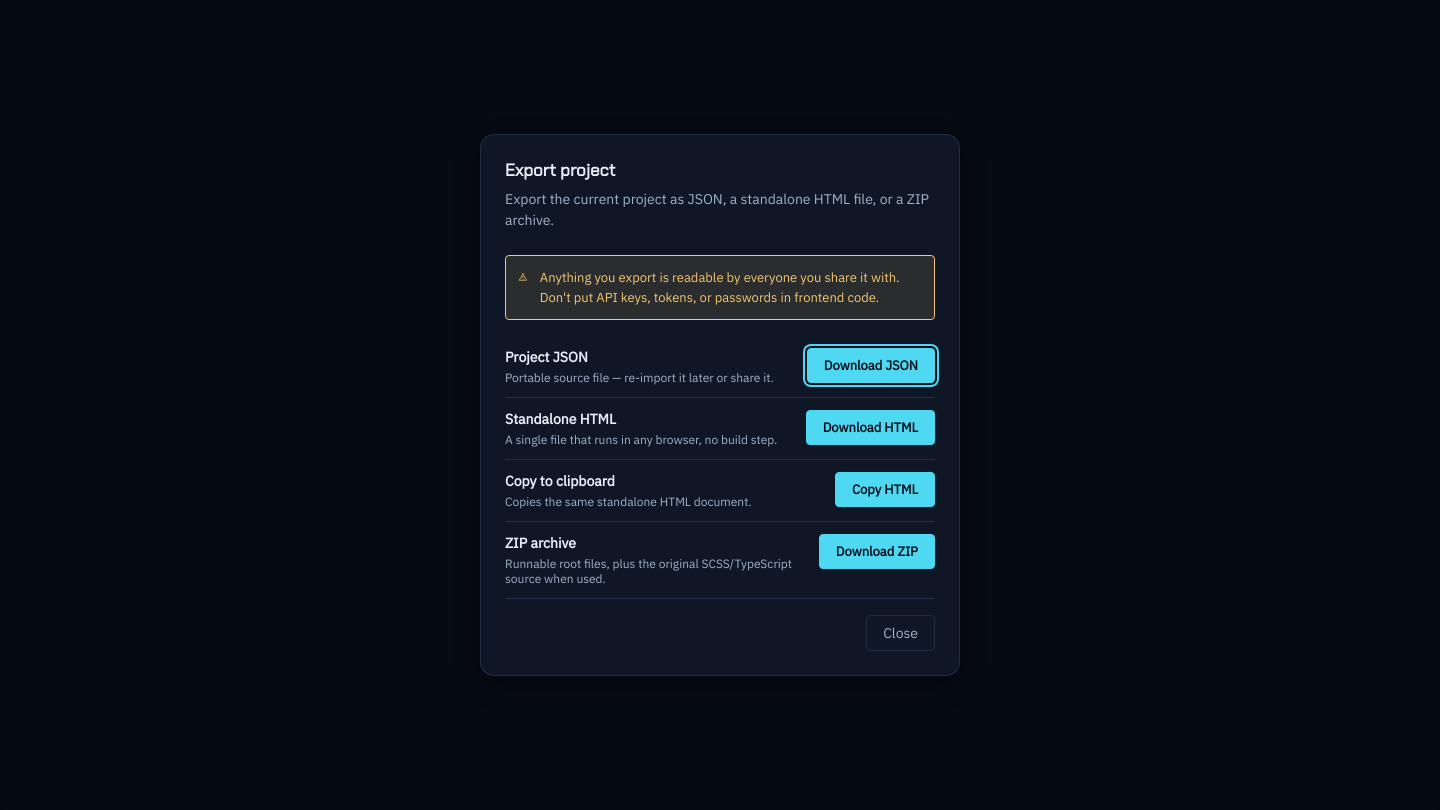
Test case: ExportDialog › reports an unexpected failure from Download ZIP instead of staying busy
The image size is (1440, 810).
Step 1. Click the button "Download ZIP" → (877, 552), box [819,534,935,569]
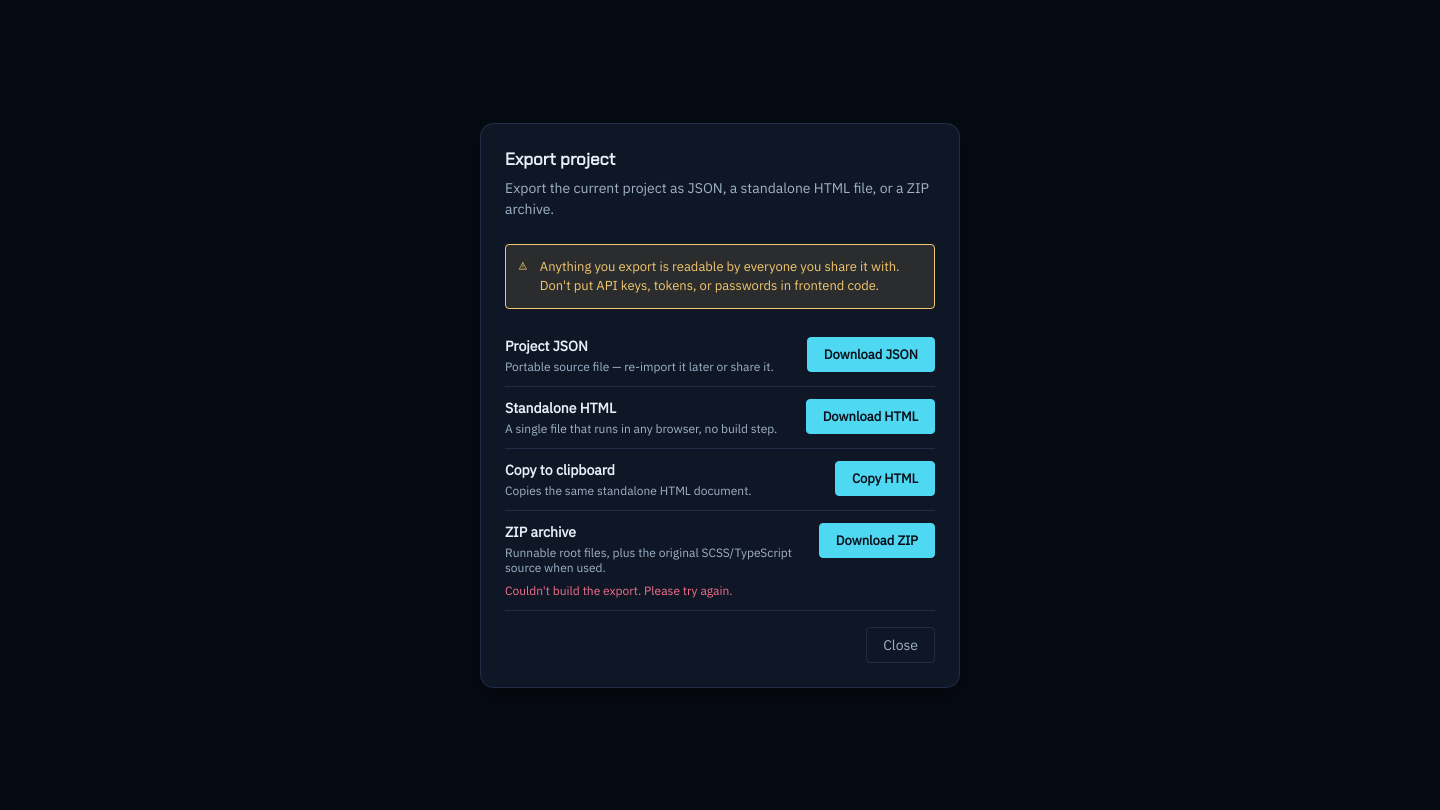
expect the button "Download ZIP" is enabled: met, box [819,522,935,558]
expect the message shows "Couldn't build the export.": met, box [505,582,733,598]
